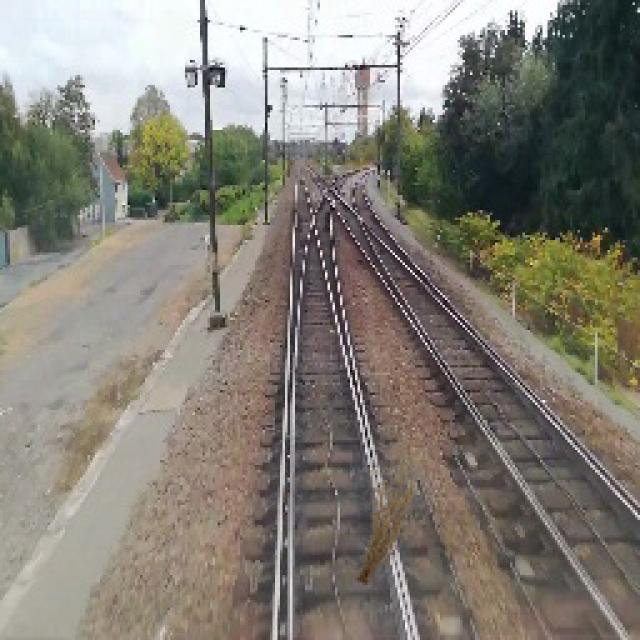danger: (335, 476, 452, 596)
rail: (249, 155, 489, 640)
